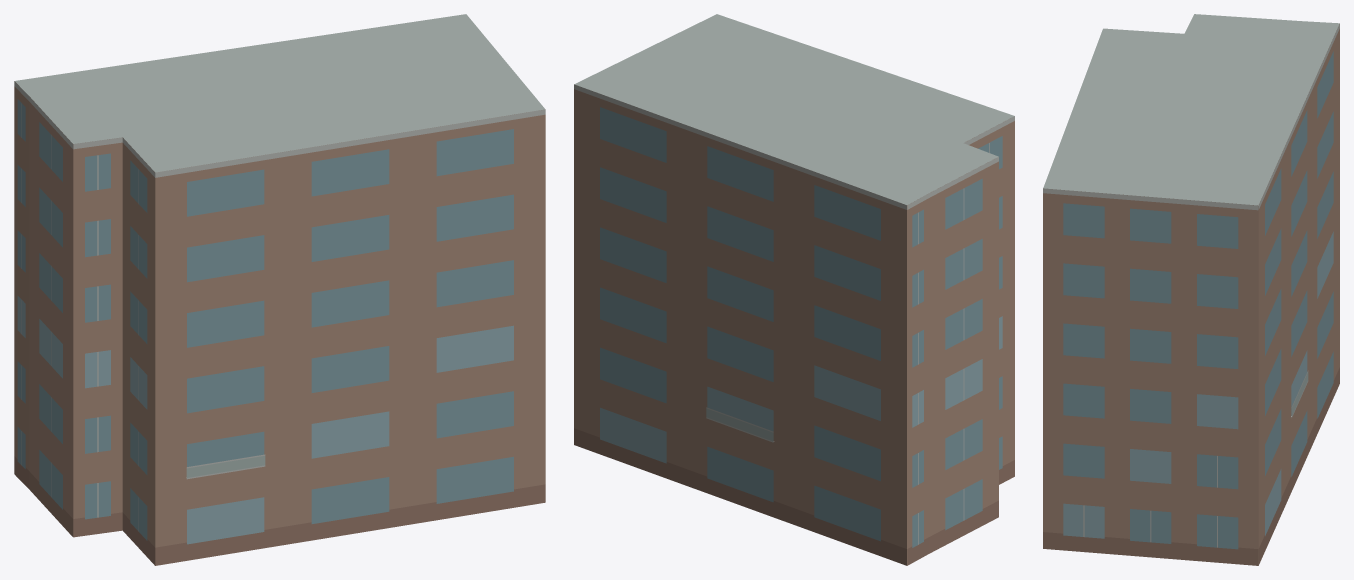
File: survey-upis-32602764.glb
The picture shows the model from 3 angles, left to right: view 1: azimuth 30°, elevation 25°; view 2: azimuth 150°, elevation 25°; view 3: azimuth 270°, elevation 25°; orthographic projection. The views are drawn at different scales.
Visible parts, largest first — view 1: survey-upis-32602764.tmp; view 2: survey-upis-32602764.tmp; view 3: survey-upis-32602764.tmp.
Part boxes in pixels (x1,y1,x2,y2): survey-upis-32602764.tmp: (14,14,545,565); survey-upis-32602764.tmp: (574,14,1014,565); survey-upis-32602764.tmp: (1043,14,1339,565).
Size of the model in its own units: 20.86 by 18.3 by 13.67.
